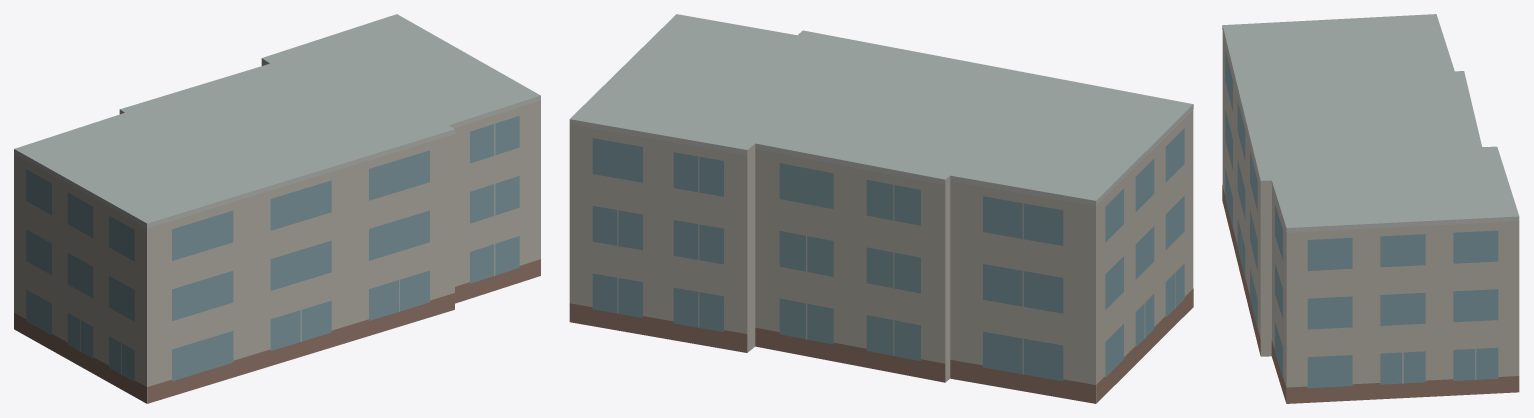
File: survey-upis-32924265.glb
The picture shows the model from 3 angles, left to right: view 1: azimuth 30°, elevation 25°; view 2: azimuth 150°, elevation 25°; view 3: azimuth 270°, elevation 25°; orthographic projection. The views are drawn at different scales.
Parts seen in each view (by area): view 1: survey-upis-32924265.tmp; view 2: survey-upis-32924265.tmp; view 3: survey-upis-32924265.tmp.
Part boxes in pixels (box(x1,y1,x2,y2)): survey-upis-32924265.tmp: box(14, 14, 540, 403); survey-upis-32924265.tmp: box(569, 14, 1193, 403); survey-upis-32924265.tmp: box(1222, 14, 1519, 403).
Bounding box in the file's own units: 23.89 × 9.15 × 14.01.
